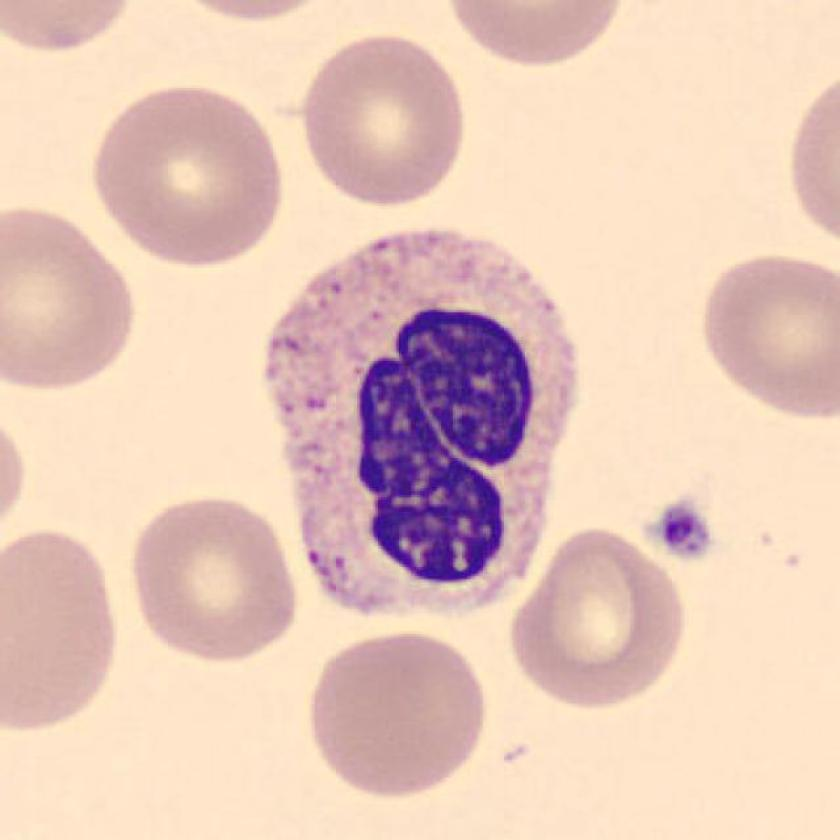neutrophil: (266, 232, 579, 619)
